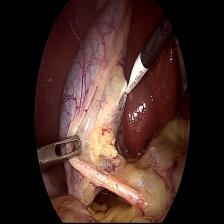Grasper: (36, 133, 83, 167)
Hook: (124, 48, 147, 96)
